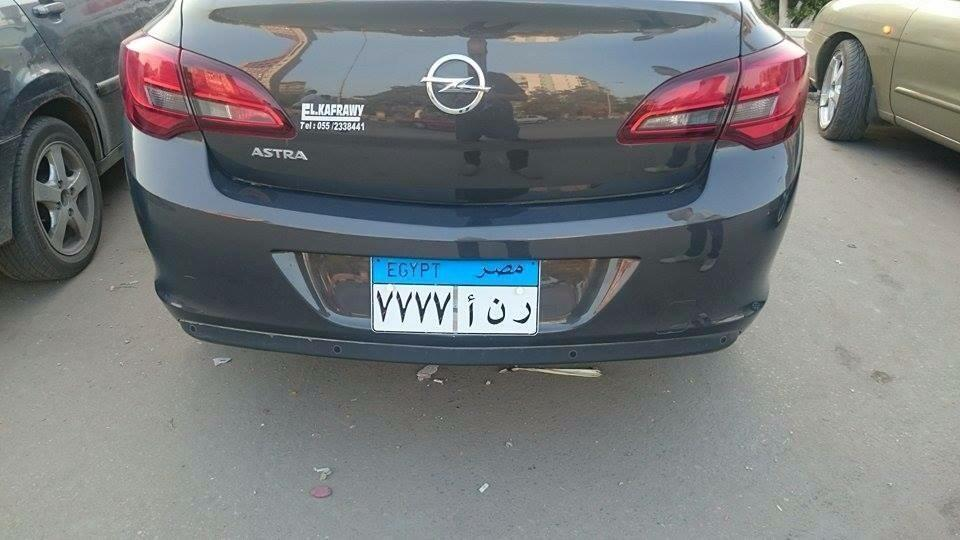7: (374, 288, 395, 325), (433, 289, 452, 326), (414, 286, 432, 324), (394, 289, 412, 324)
License Plate: (366, 257, 544, 338)
Noon: (484, 296, 507, 326)
R: (512, 298, 534, 327)
alef: (466, 292, 478, 328)
car: (807, 6, 960, 161)
